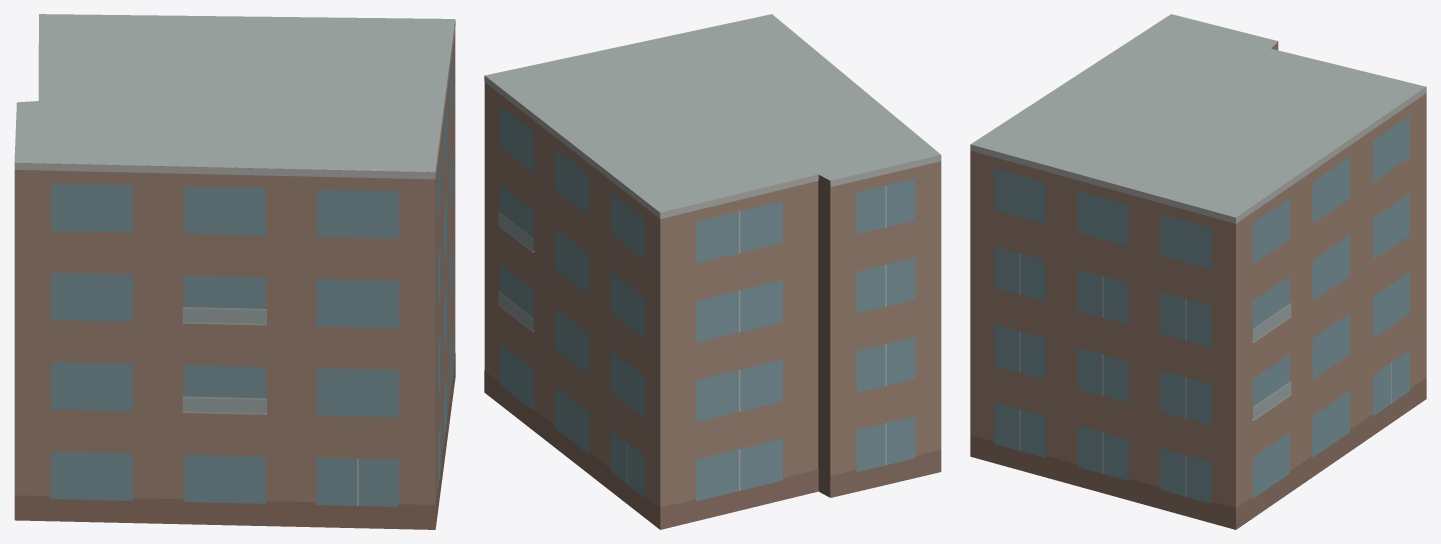
Rendered from survey-upis-33017055.glb.
3 views of the same model, side by side, from view 1: azimuth 30°, elevation 25°; view 2: azimuth 150°, elevation 25°; view 3: azimuth 270°, elevation 25° (orthographic). The views are drawn at different scales.
Visible parts, largest first — view 1: survey-upis-33017055.tmp; view 2: survey-upis-33017055.tmp; view 3: survey-upis-33017055.tmp.
Part boxes in pixels (box(x1,y1,x2,y2)): survey-upis-33017055.tmp: box(14, 14, 455, 529); survey-upis-33017055.tmp: box(484, 14, 941, 529); survey-upis-33017055.tmp: box(970, 14, 1426, 529).
Bounding box in the file's own units: 17.08 × 12.2 × 16.16.
